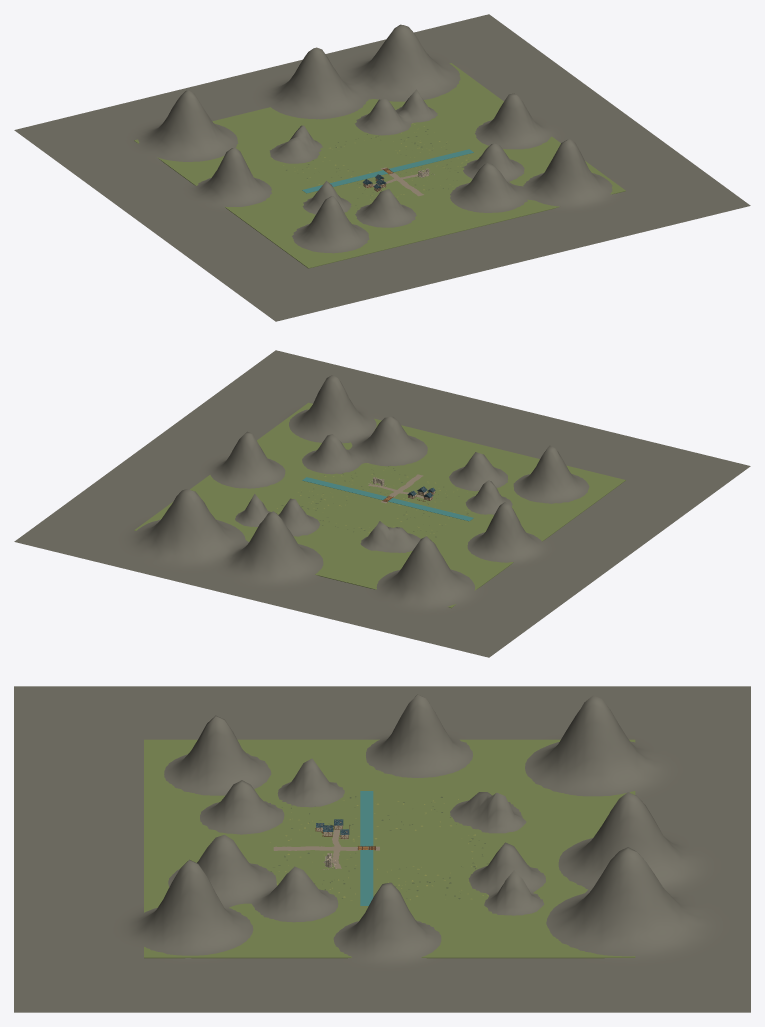
The model's file is vallee.glb.
The picture shows the model from 3 angles, top to bottom: view 1: azimuth 30°, elevation 25°; view 2: azimuth 150°, elevation 25°; view 3: azimuth 270°, elevation 25°; orthographic projection. The views are drawn at different scales.
Visible parts, largest first — view 1: vallee_Relief, vallee_Maillage; view 2: vallee_Relief, vallee_Maillage; view 3: vallee_Relief, vallee_Maillage, vallee_Chemins_vallee.
Part boxes in pixels (x1=…): vallee_Relief: x1=14, y1=14, x2=750, y2=321; vallee_Maillage: x1=134, y1=63, x2=625, y2=268; vallee_Relief: x1=14, y1=350, x2=750, y2=657; vallee_Maillage: x1=134, y1=402, x2=625, y2=608; vallee_Relief: x1=14, y1=686, x2=750, y2=1012; vallee_Maillage: x1=144, y1=739, x2=635, y2=958; vallee_Chemins_vallee: x1=273, y1=829, x2=379, y2=868.
Bounding box in the file's own units: 440 × 46.74 × 420.
